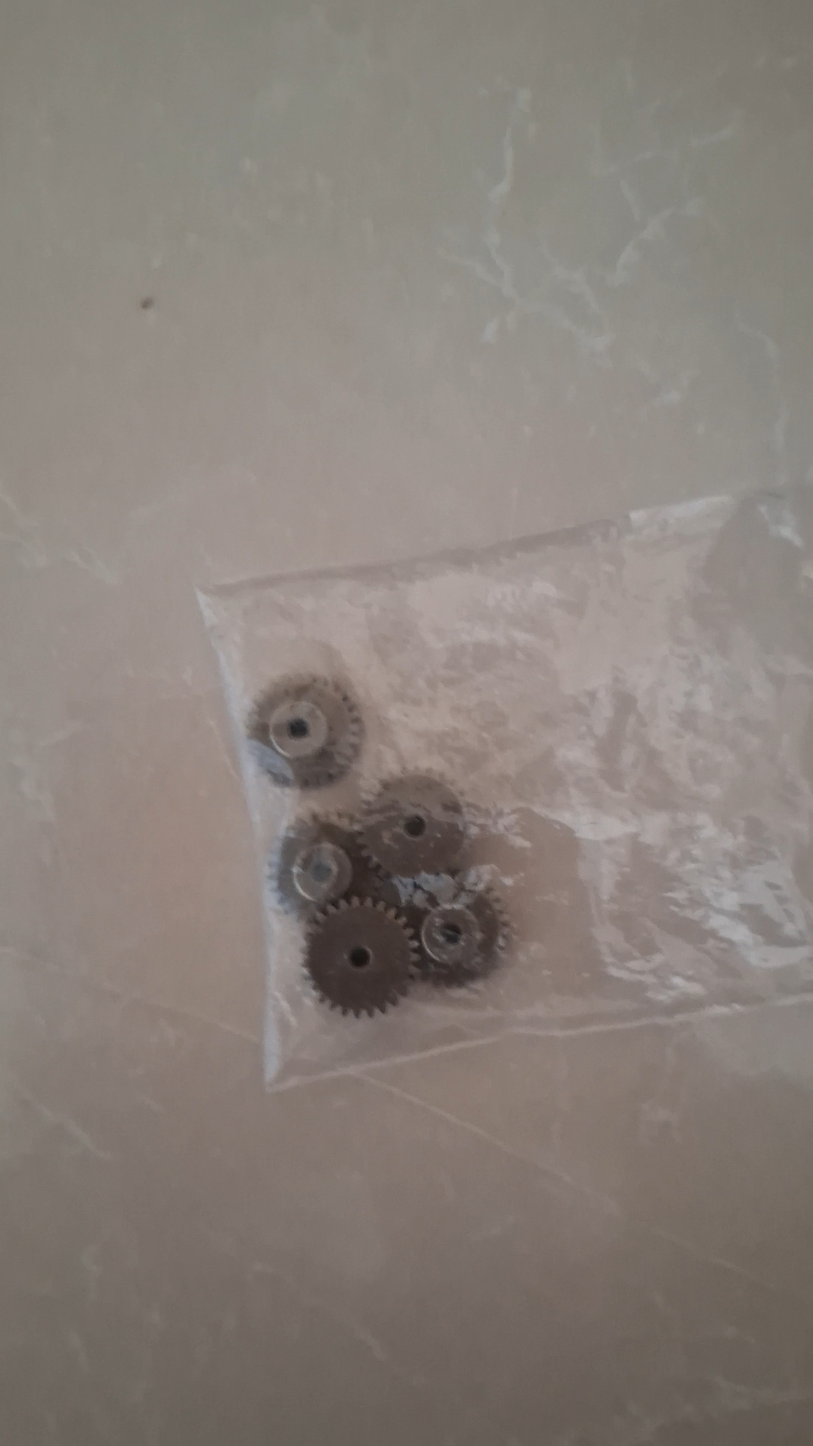spur gear: (305, 897, 417, 1017), (248, 675, 362, 788), (359, 775, 465, 877), (269, 817, 362, 912), (420, 885, 508, 985)
